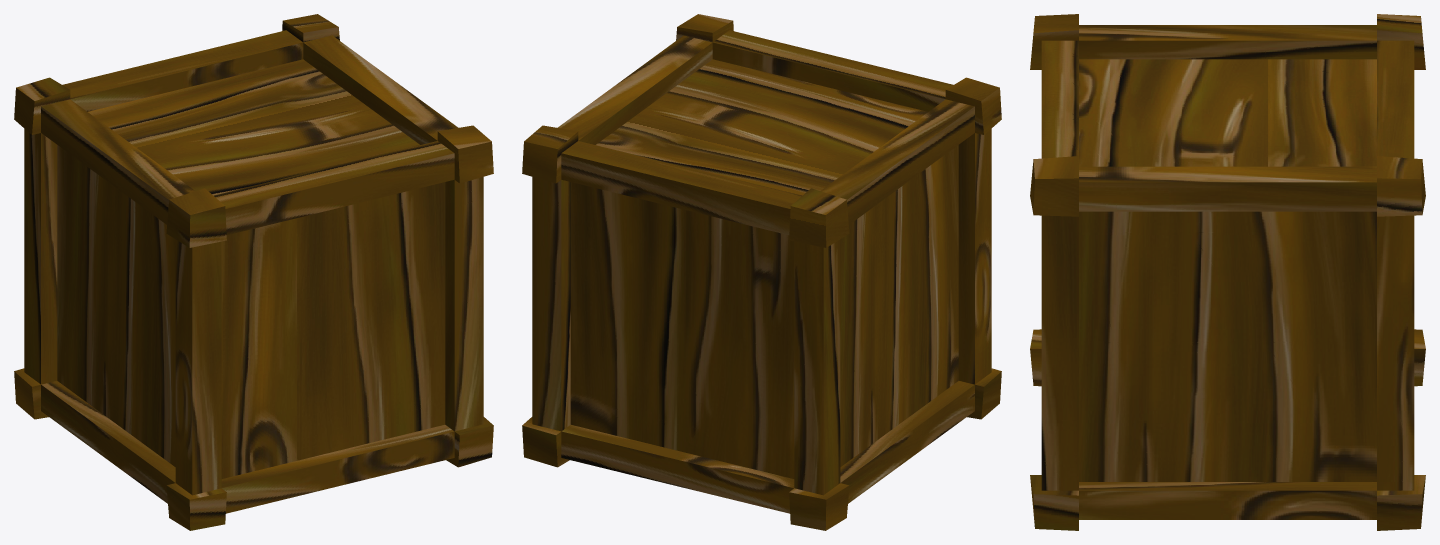
File: Crate.glb
3 views of the same model, side by side, from view 1: azimuth 30°, elevation 25°; view 2: azimuth 150°, elevation 25°; view 3: azimuth 270°, elevation 25° (orthographic). The views are drawn at different scales.
Visible parts, largest first — view 1: Cube; view 2: Cube; view 3: Cube.
Boxes of the visible parts, left/top/right/bottom form: Cube: left=14, top=14, right=493, bottom=530; Cube: left=522, top=14, right=1001, bottom=530; Cube: left=1030, top=14, right=1425, bottom=530.
Bounding box in the file's own units: 2.13 × 2.13 × 2.13.
Materials: 1 (1 with a texture image).
